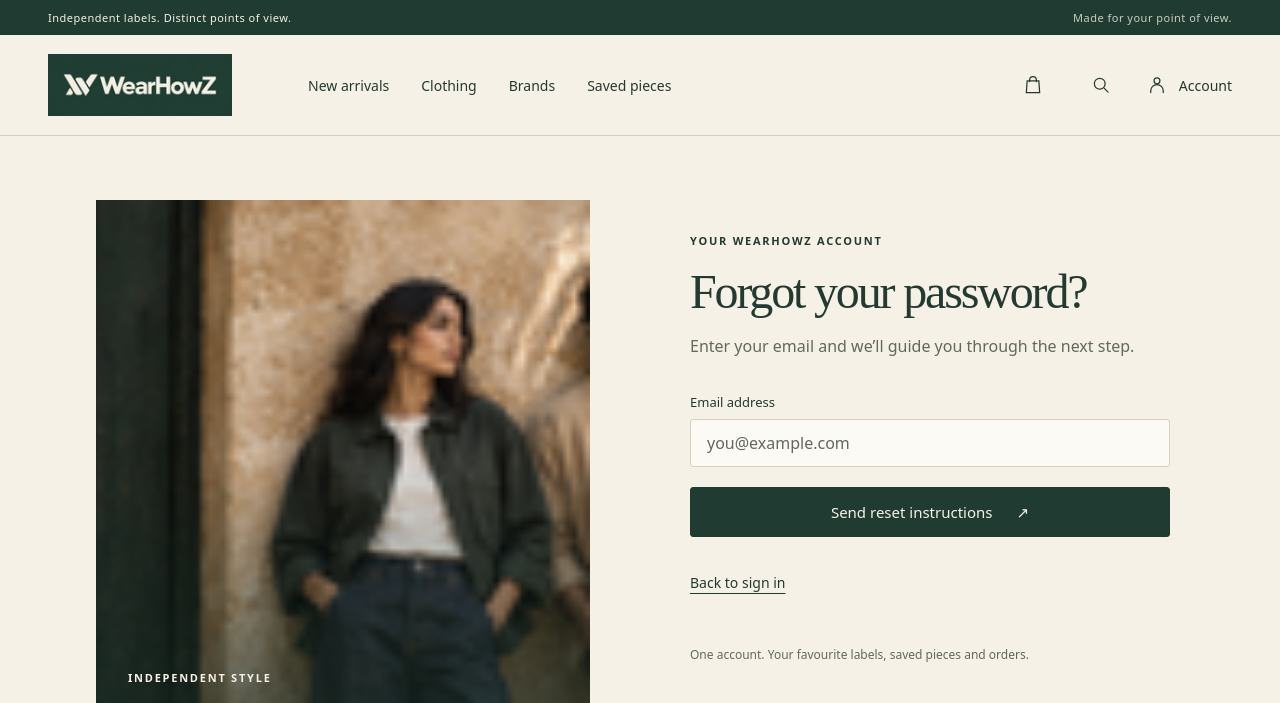
Test case: keeps password-reset requests enumeration safe
Expected: the button "Send reset instructions ↗" is enabled, 690,487 -> 1170,537
Type "unknown@example.com" into the field labelled "Email address" at (930, 443), box 690,419 -> 1170,467
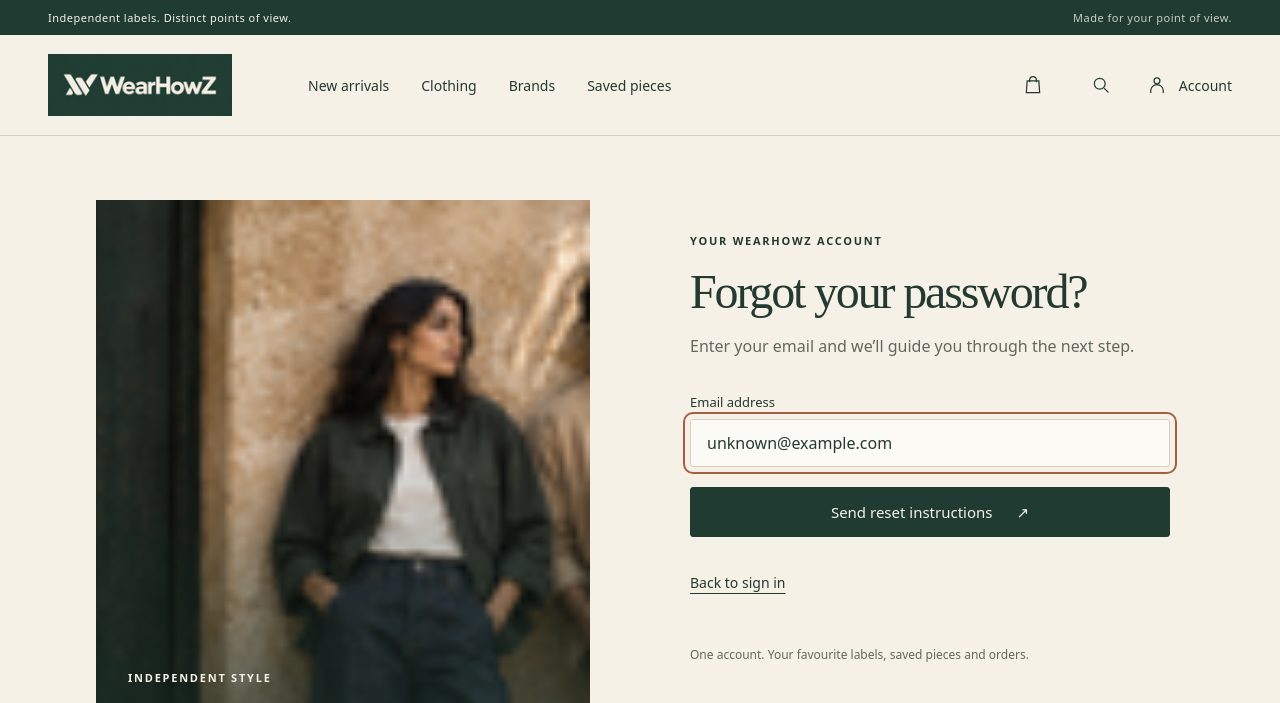
Click the button "Send reset instructions ↗" at (930, 512), box 690,487 -> 1170,537
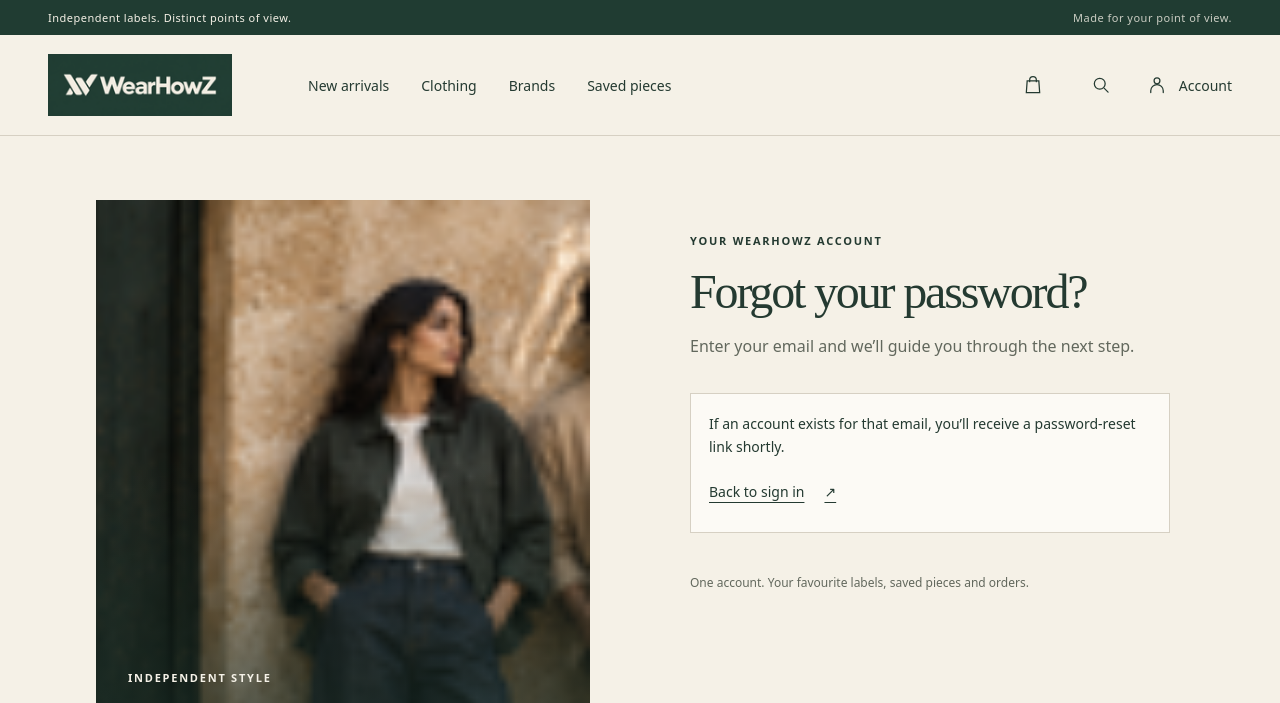
Now the text "If an account exists for that email" is shown, box 709,414 -> 1136,456
